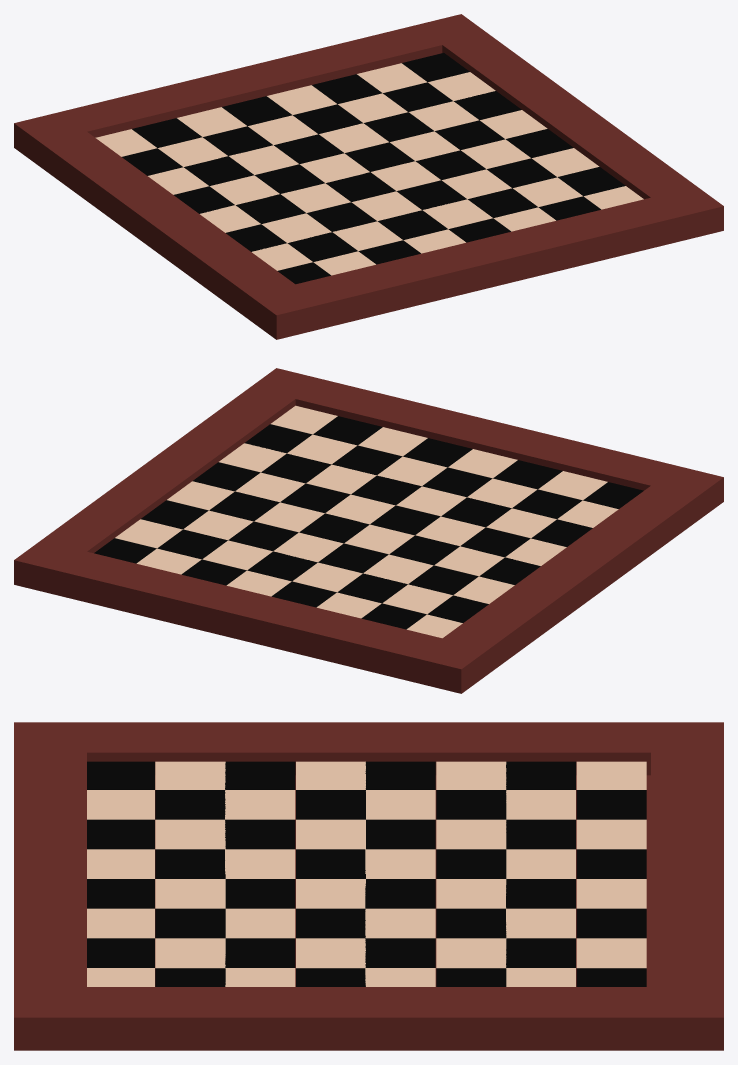
Rendered from Checkers.fbx_Board.fbx.
3 views of the same model, one above another, from view 1: azimuth 30°, elevation 25°; view 2: azimuth 150°, elevation 25°; view 3: azimuth 270°, elevation 25° (orthographic). The views are drawn at different scales.
Parts seen in each view (by area): view 1: Board; view 2: Board; view 3: Board.
Boxes of the visible parts, bbox=[...] form: Board: bbox=[14, 14, 723, 339]; Board: bbox=[14, 368, 723, 693]; Board: bbox=[14, 722, 723, 1050].
Size of the model in its own units: 2152 by 151 by 2187.
